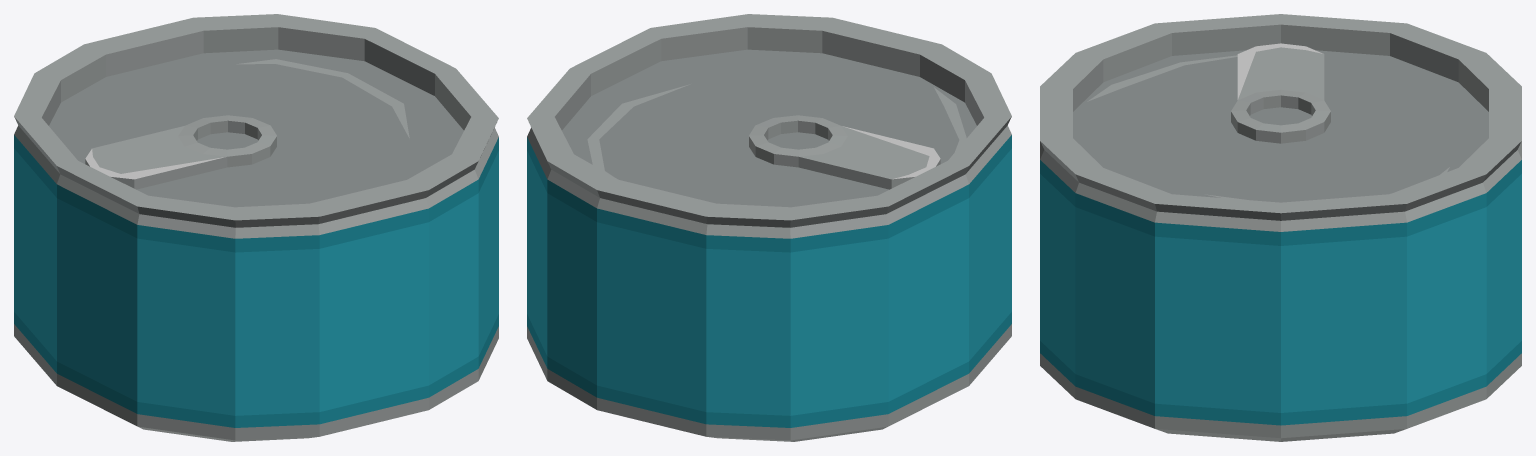
Rendered from mesh_cannedgoods_blue.fbx.
3 views of the same model, side by side, from view 1: azimuth 30°, elevation 25°; view 2: azimuth 150°, elevation 25°; view 3: azimuth 270°, elevation 25° (orthographic). The views are drawn at different scales.
Visible parts, largest first — view 1: mesh_cannedgoods_blue; view 2: mesh_cannedgoods_blue; view 3: mesh_cannedgoods_blue.
Part boxes in pixels (x1,y1,x2,y2): mesh_cannedgoods_blue: (14,14,498,441); mesh_cannedgoods_blue: (527,14,1011,441); mesh_cannedgoods_blue: (1040,14,1521,441).
Bounding box in the file's own units: 0.1974 × 0.109 × 0.2017.
